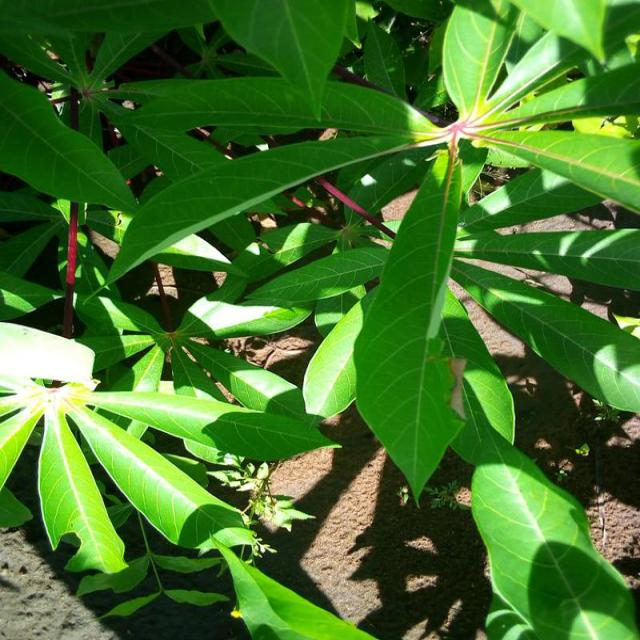cassava leaf: (0, 1, 638, 637), (352, 144, 467, 507), (468, 457, 638, 638)
